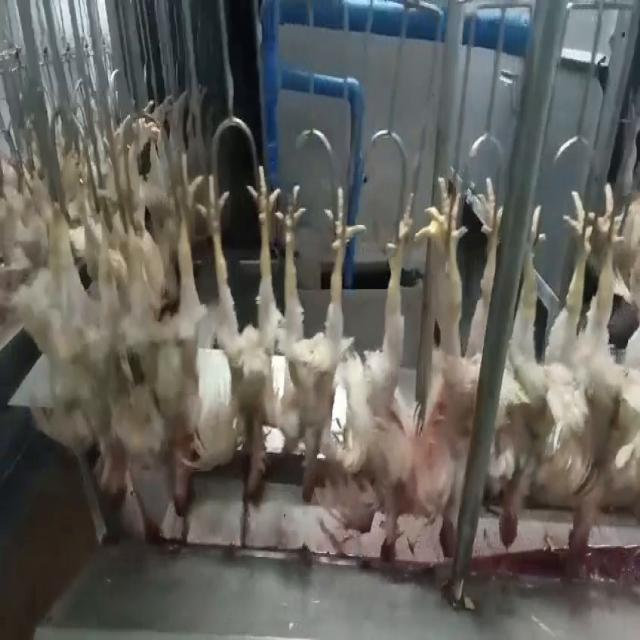chicken: (497, 186, 607, 556), (334, 174, 425, 556), (411, 172, 499, 562), (548, 188, 640, 556), (272, 178, 361, 501), (118, 152, 195, 512), (197, 157, 275, 510), (65, 161, 116, 494)
